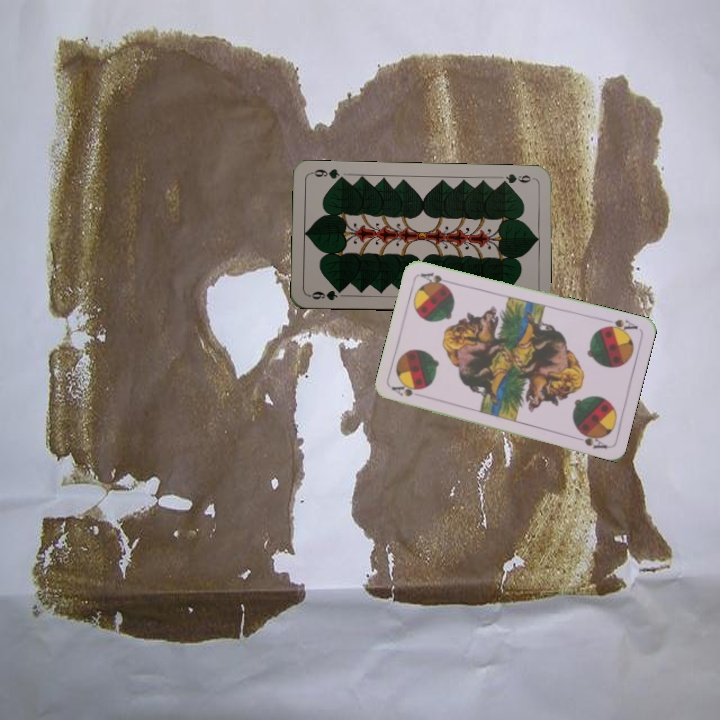G9: (305, 285, 346, 303), (496, 170, 537, 187)
SA: (599, 315, 641, 336), (388, 382, 420, 399)
